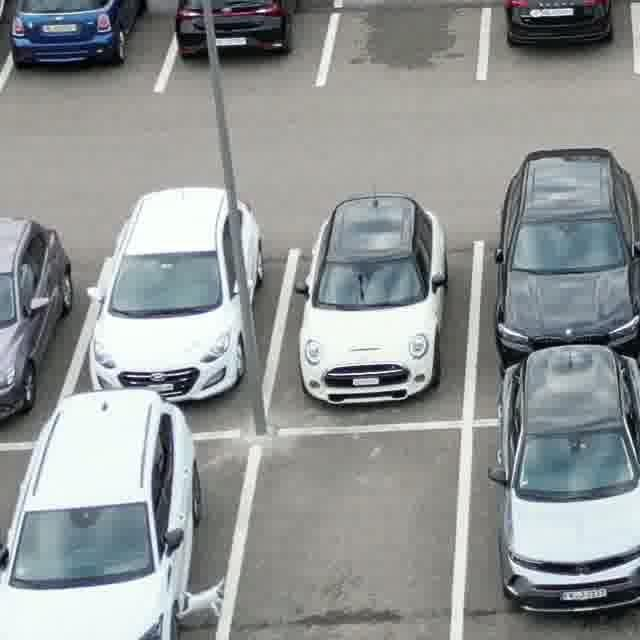Drohne: (180, 579, 224, 619)
